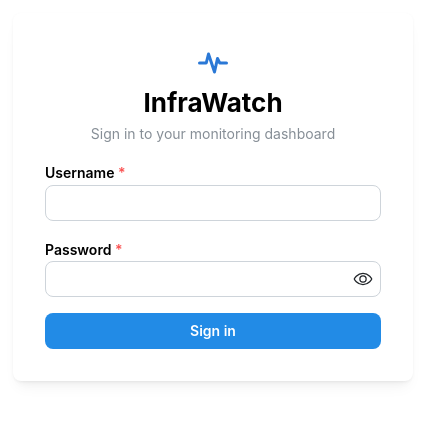
Test: LoginPage › shows the server's error on failed sign-in
The image size is (427, 437).
Expected: the text "Sign in to your monitoring dashboard" is shown, x1=91 y1=124 x2=335 y2=144
Type "admin" into the field labelled "Username *" at [213, 203], box x1=45 y1=185 x2=381 y2=221
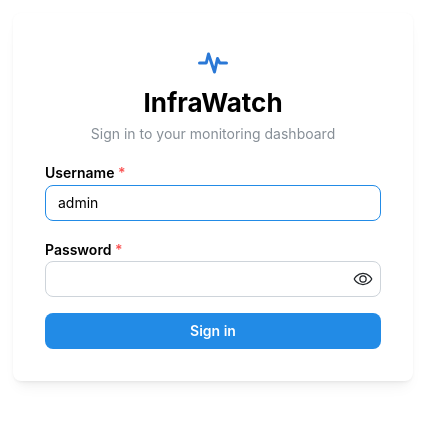
Type "wrong-password" into the password field labelled "Password *" at [213, 280], box x1=46 y1=262 x2=380 y2=296
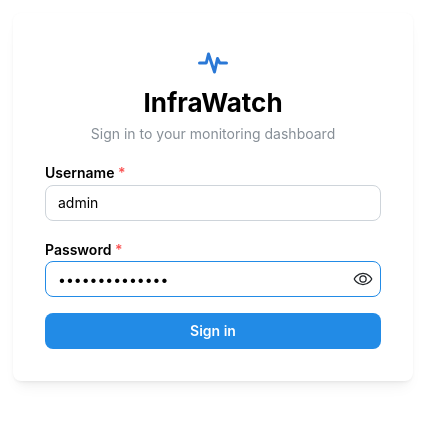
Click the button "Sign in" at [213, 332], box x1=45 y1=314 x2=381 y2=350
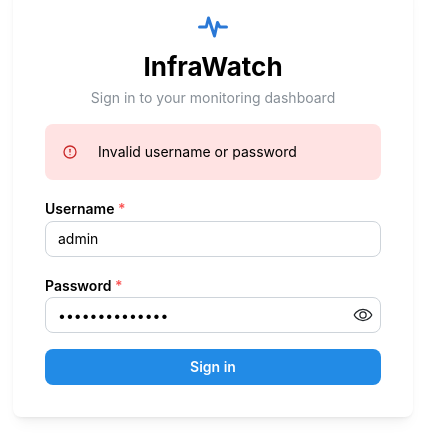
Result: the message reads "Invalid username or password" at x1=98 y1=143 x2=297 y2=160
